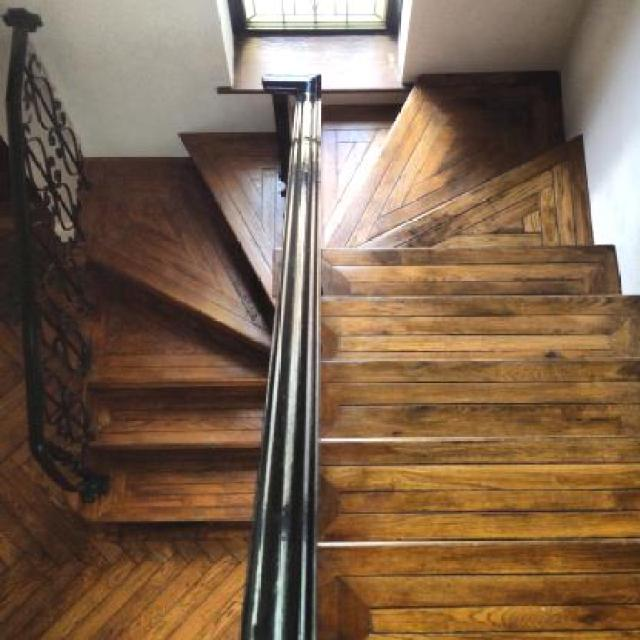stair: (1, 12, 640, 638)
